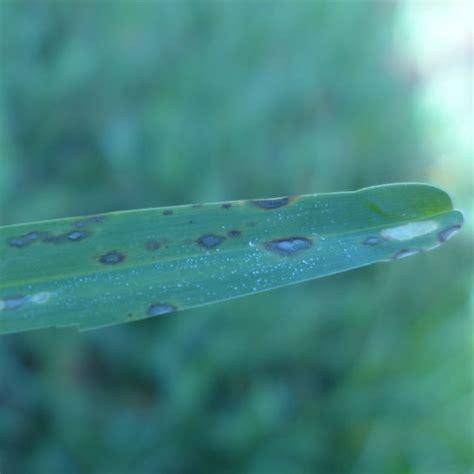black-spot: (88, 216, 314, 281)
